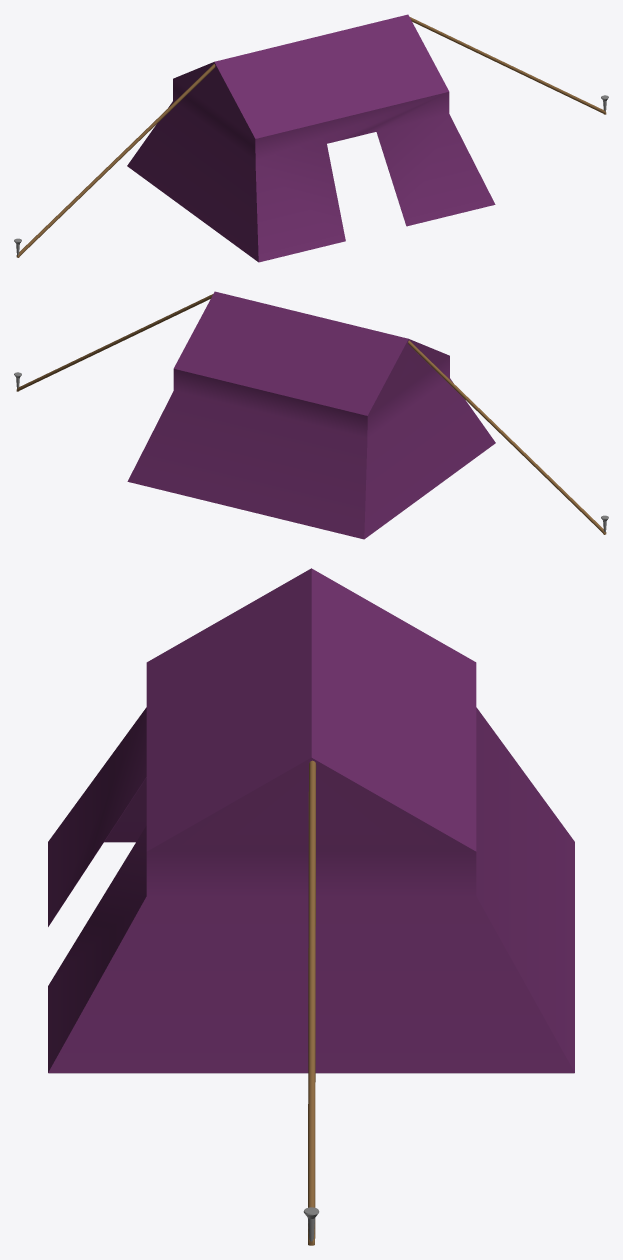
Rendered from Square_Tent_Purple_FBX_Export.fbx.
3 renders of one model, top to bottom at view 1: azimuth 30°, elevation 25°; view 2: azimuth 150°, elevation 25°; view 3: azimuth 270°, elevation 25°, orthographic. The views are drawn at different scales.
Visible parts, largest first — view 1: Tent_2; view 2: Tent_2; view 3: Tent_2.
Part boxes in pixels (left/top/right/bottom): Tent_2: left=14, top=14, right=608, bottom=262; Tent_2: left=14, top=291, right=608, bottom=539; Tent_2: left=48, top=568, right=574, bottom=1245.
Size of the model in its own units: 19.85 by 4.71 by 7.63.
